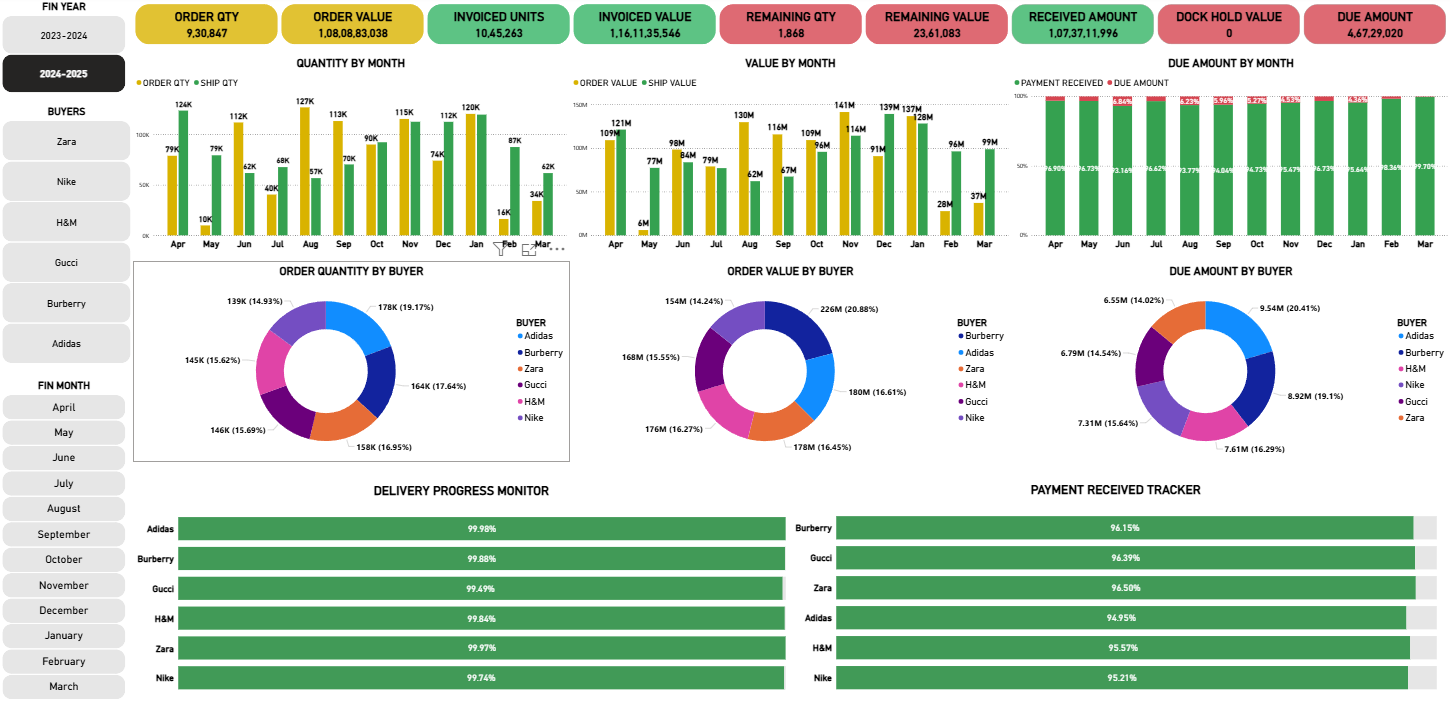

Layout of this report page (visuals, bound fields, positions):
{"tool":"powerbi","page":{"name":"ORDER CHART","canvas":[3080,1500],"ordinal":0},"visuals":[{"type":"advancedSlicerVisual","title":"FIN MONTH","fields":{"Values":["CALENDAR_TABLE.Month"]},"box":[0,810.9,271.7,687.7],"z":0},{"type":"donutChart","title":"ORDER QUANTITY BY BUYER ","fields":{"Category":["Buyers.BUYER"],"Y":["Sum(ORDER.ORDER_QTY)"]},"box":[282.3,562.5,927.6,426.7],"z":1000},{"type":"donutChart","title":"ORDER VALUE BY BUYER","fields":{"Category":["Buyers.BUYER"],"Y":["Sum(ORDER.ORDER_VALUE)"]},"box":[1209.9,562.5,936.1,426.7],"z":2000},{"type":"advancedSlicerVisual","title":"BUYERS","fields":{"Values":["Buyers.BUYER"]},"box":[0,229.2,282.3,560.4],"z":3000},{"type":"advancedSlicerVisual","title":"FIN YEAR","fields":{"Values":["CALENDAR_TABLE.YearPair"]},"box":[0,6.4,271.7,203.8],"z":4000},{"type":"cardVisual","fields":{"Data":["Sum(ORDER.ORDER_QTY)","Sum(ORDER.ORDER_VALUE)","Sum(SHIP.SHIP_QTY)","Sum(SHIP.SHIP_VALUE_INR)","Sum(ORDER.REMAINING_QTY)","Sum(ORDER.REMAINING_VALUE_INR)","Sum(DUE PAYMENT.PAYMENT_RECEIVED_INR)","Sum(AWB PENDING.BALANCE_INR)","Sum(DUE PAYMENT.BALANCE_INR)"]},"box":[282.3,6.4,2797.7,110.4],"z":5000},{"type":"hundredPercentStackedBarChart","title":"DELIVERY PROGRESS MONITOR","fields":{"Y":["Sum(SHIP.SHIP_QTY)","Sum(ORDER.REMAINING_QTY)"],"Category":["Buyers.BUYER"]},"box":[282.3,1016.8,1396.7,481.8],"z":6000},{"type":"clusteredColumnChart","title":"QUANTITY BY MONTH","fields":{"Y":["Sum(ORDER.ORDER_QTY)","Sum(SHIP.SHIP_QTY)"],"Category":["CALENDAR_TABLE.MONT"]},"box":[282.3,125.2,925.5,416],"z":7000},{"type":"clusteredColumnChart","title":"VALUE BY MONTH","fields":{"Y":["Sum(ORDER.ORDER_VALUE)","Sum(SHIP.SHIP_VALUE_INR)"],"Category":["CALENDAR_TABLE.MONT"]},"box":[1209.9,125.2,936.1,416],"z":8000},{"type":"hundredPercentStackedBarChart","title":"PAYMENT RECEIVED TRACKER","fields":{"Category":["Buyers.BUYER"],"Y":["Sum(DUE PAYMENT.PAYMENT_RECEIVED_INR)","Sum(DUE PAYMENT.BALANCE_INR)"]},"box":[1679,1014.6,1381.9,484],"z":9000},{"type":"donutChart","title":"DUE AMOUNT BY BUYER","fields":{"Category":["Buyers.BUYER"],"Y":["Sum(DUE PAYMENT.BALANCE_INR)"]},"box":[2146,562.5,934,426.7],"z":10000},{"type":"hundredPercentStackedColumnChart","title":"DUE AMOUNT BY MONTH","fields":{"Category":["CALENDAR_TABLE.MONT"],"Y":["Sum(DUE PAYMENT.PAYMENT_RECEIVED_INR)","Sum(DUE PAYMENT.BALANCE_INR)"]},"box":[2146,125.2,934,416],"z":11000}]}

Visuals, with their boxes in screenshot pixels (x1, y1, x2, y2), scaled from the page's 3080x1500 canvas onto the 1450x702 screenshot:
"FIN MONTH" advancedSlicerVisual: [0,380,128,701]
"ORDER QUANTITY BY BUYER " donutChart: [133,263,570,463]
"ORDER VALUE BY BUYER" donutChart: [570,263,1010,463]
"BUYERS" advancedSlicerVisual: [0,107,133,370]
"FIN YEAR" advancedSlicerVisual: [0,3,128,98]
cardVisual - Sum(ORDER.ORDER_QTY) x Sum(ORDER.ORDER_VALUE): [133,3,1449,55]
"DELIVERY PROGRESS MONITOR" hundredPercentStackedBarChart: [133,476,790,701]
"QUANTITY BY MONTH" clusteredColumnChart: [133,59,569,253]
"VALUE BY MONTH" clusteredColumnChart: [570,59,1010,253]
"PAYMENT RECEIVED TRACKER" hundredPercentStackedBarChart: [790,475,1441,701]
"DUE AMOUNT BY BUYER" donutChart: [1010,263,1449,463]
"DUE AMOUNT BY MONTH" hundredPercentStackedColumnChart: [1010,59,1449,253]
